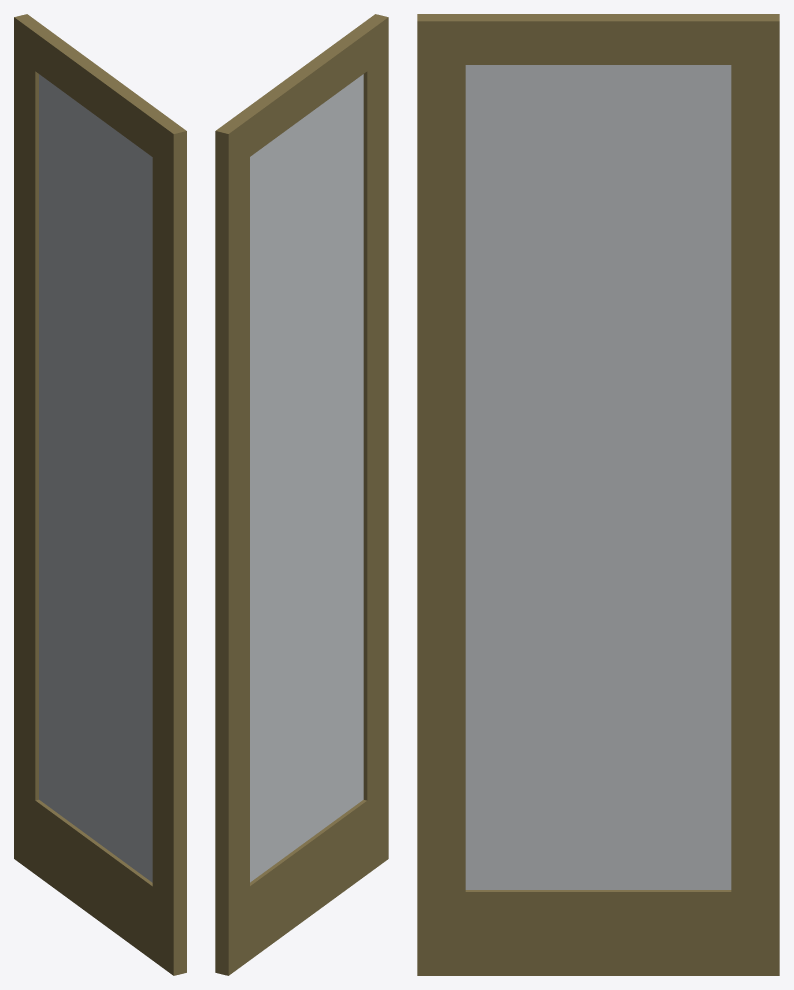
File: MainDoor1bTransformed2.fbx
3 renders of one model, left to right at view 1: azimuth 30°, elevation 25°; view 2: azimuth 150°, elevation 25°; view 3: azimuth 270°, elevation 25°, orthographic. The views are drawn at different scales.
Visible parts, largest first — view 1: Glazed_Internal Double Timber Doors:DT-22:2478032 door; view 2: Glazed_Internal Double Timber Doors:DT-22:2478032 door; view 3: Glazed_Internal Double Timber Doors:DT-22:2478032 door.
Boxes of the visible parts, x1,y1,x2,y2 form: Glazed_Internal Double Timber Doors:DT-22:2478032 door: [14, 14, 186, 975]; Glazed_Internal Double Timber Doors:DT-22:2478032 door: [215, 14, 388, 975]; Glazed_Internal Double Timber Doors:DT-22:2478032 door: [417, 14, 779, 975].
Size of the model in its own units: 0.0451 by 2.73 by 0.9392.
